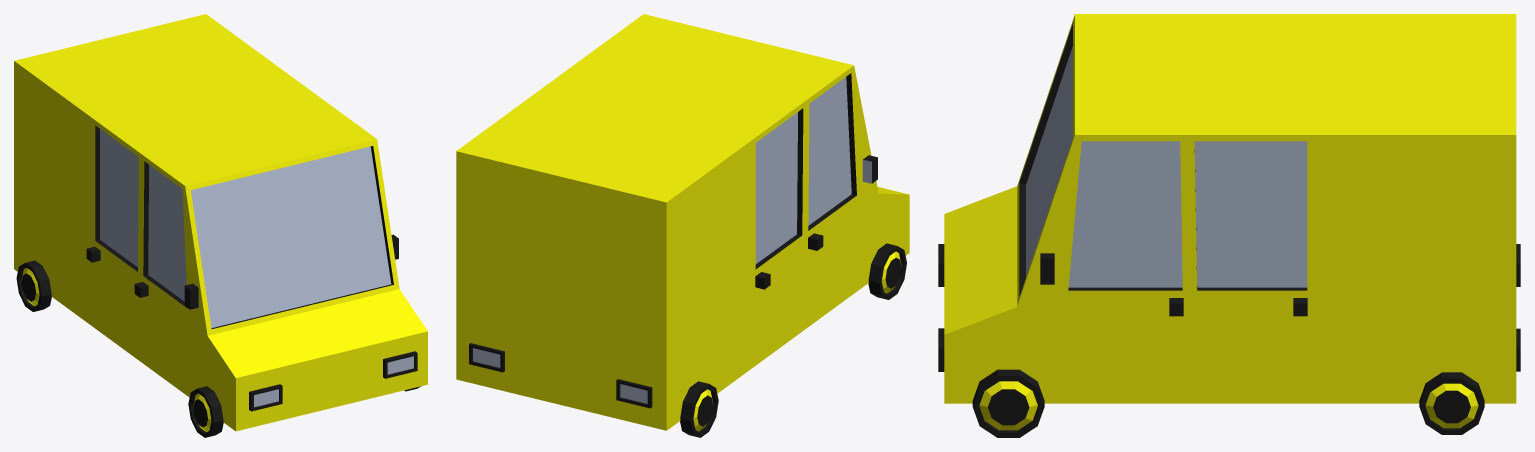
The model's file is Car 2.fbx.
3 views of the same model, side by side, from view 1: azimuth 30°, elevation 25°; view 2: azimuth 150°, elevation 25°; view 3: azimuth 270°, elevation 25° (orthographic). The views are drawn at different scales.
Visible parts, largest first — view 1: Car, Front Right Tire, Back Right Tire; view 2: Car, Back Right Tire, Front Right Tire; view 3: Car, Front Left Tire, Back Left Tire.
Boxes of the visible parts, x1,y1,x2,y2 form: Car: [14, 14, 427, 431]; Front Right Tire: [188, 386, 223, 437]; Back Right Tire: [16, 260, 51, 311]; Car: [456, 14, 909, 430]; Back Right Tire: [680, 381, 718, 437]; Front Right Tire: [868, 243, 906, 299]; Car: [938, 14, 1520, 403]; Front Left Tire: [972, 369, 1044, 437]; Back Left Tire: [1419, 372, 1484, 434].
Bounding box in the file's own units: 2.22 × 2.29 × 4.07.
